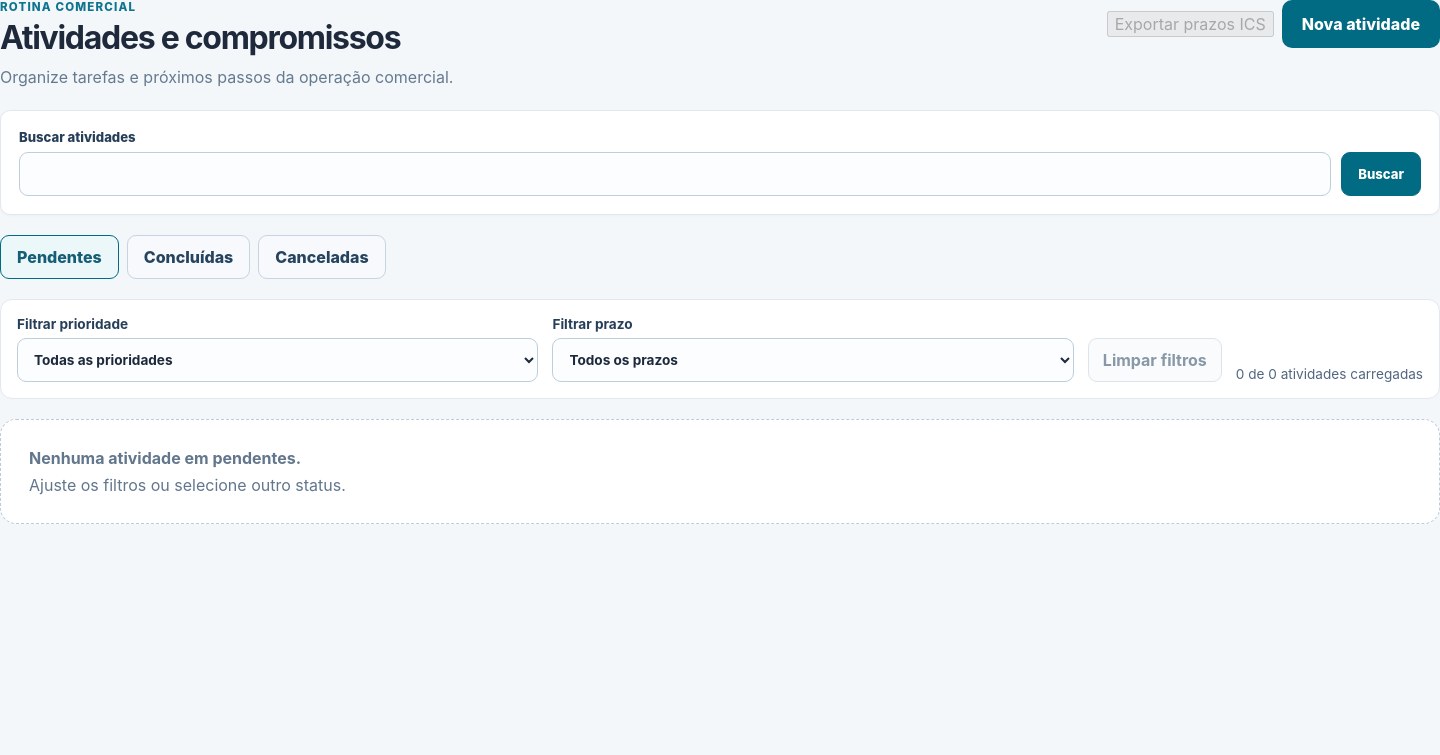
Scenario: C3.5.4 activities filters › creates a self-owned activity with optional commercial links
Expected: the text "Nenhuma atividade em pendentes." is shown, [29,448,301,468]
Click the button "Nova atividade" at (1361, 24), box [1282,0,1439,48]
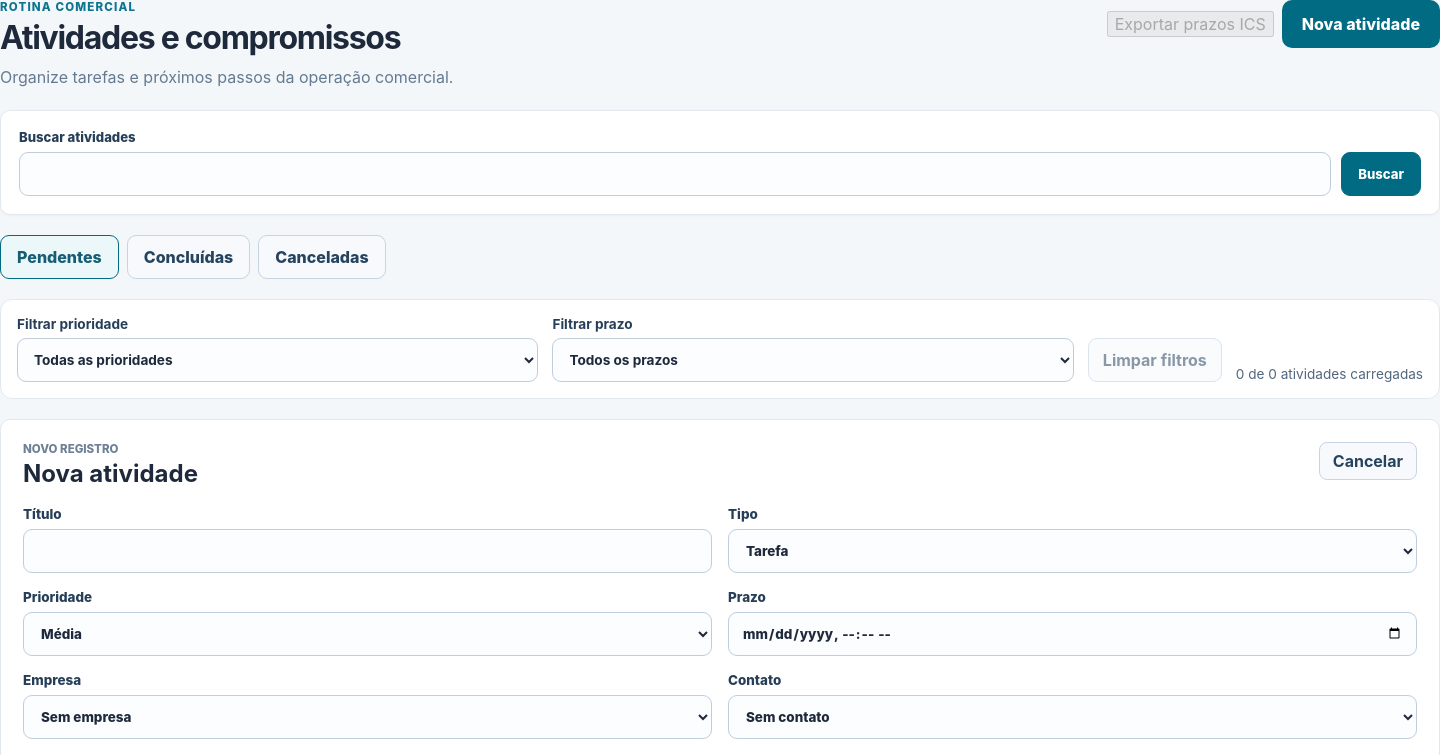
Type "Preparar proposta" into the field labelled "Título" at (368, 551), box [23,529,712,573]
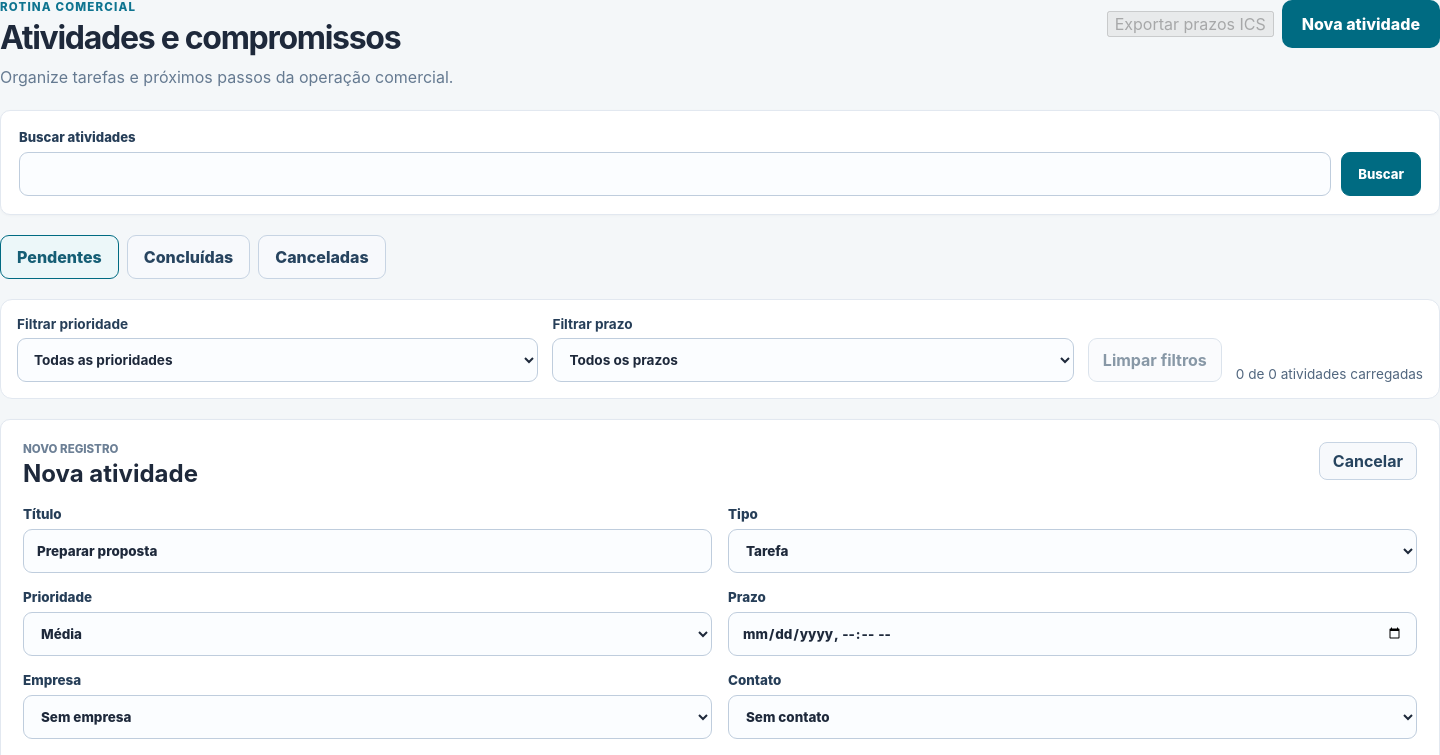
Select "Tarefa" in the dropdown labelled "Tipo" at (1072, 551), box [728,529,1417,573]
Select "Alta" in the dropdown labelled "Prioridade" at (368, 634), box [23,612,712,656]
Type "2026-09-15T14:30" into the field labelled "Prazo" at (1072, 634), box [728,612,1417,656]
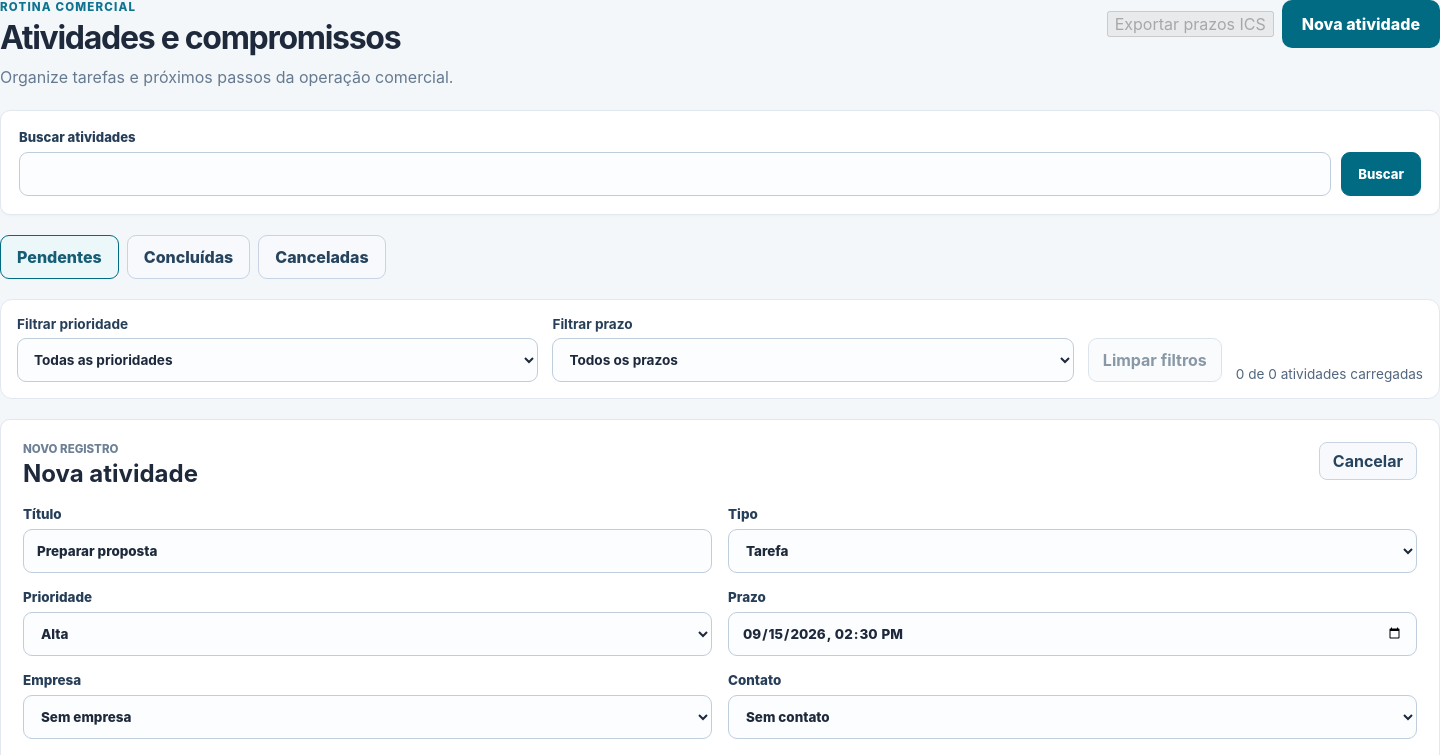
Select "Axes Cliente" in the dropdown labelled "Empresa" at (368, 717), box [23,695,712,739]
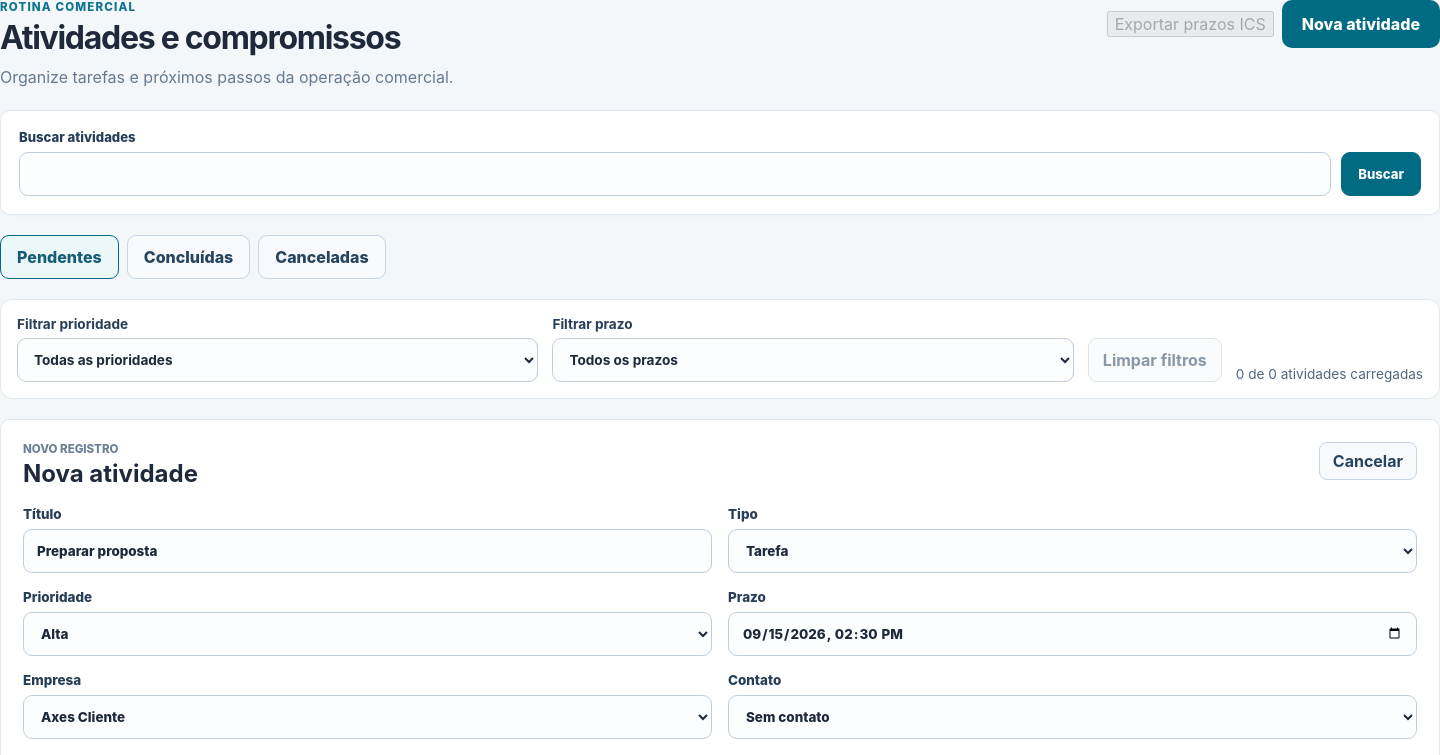
Select "Maria Cliente" in the dropdown labelled "Contato" at (1072, 717), box [728,695,1417,739]
(page scrolled)
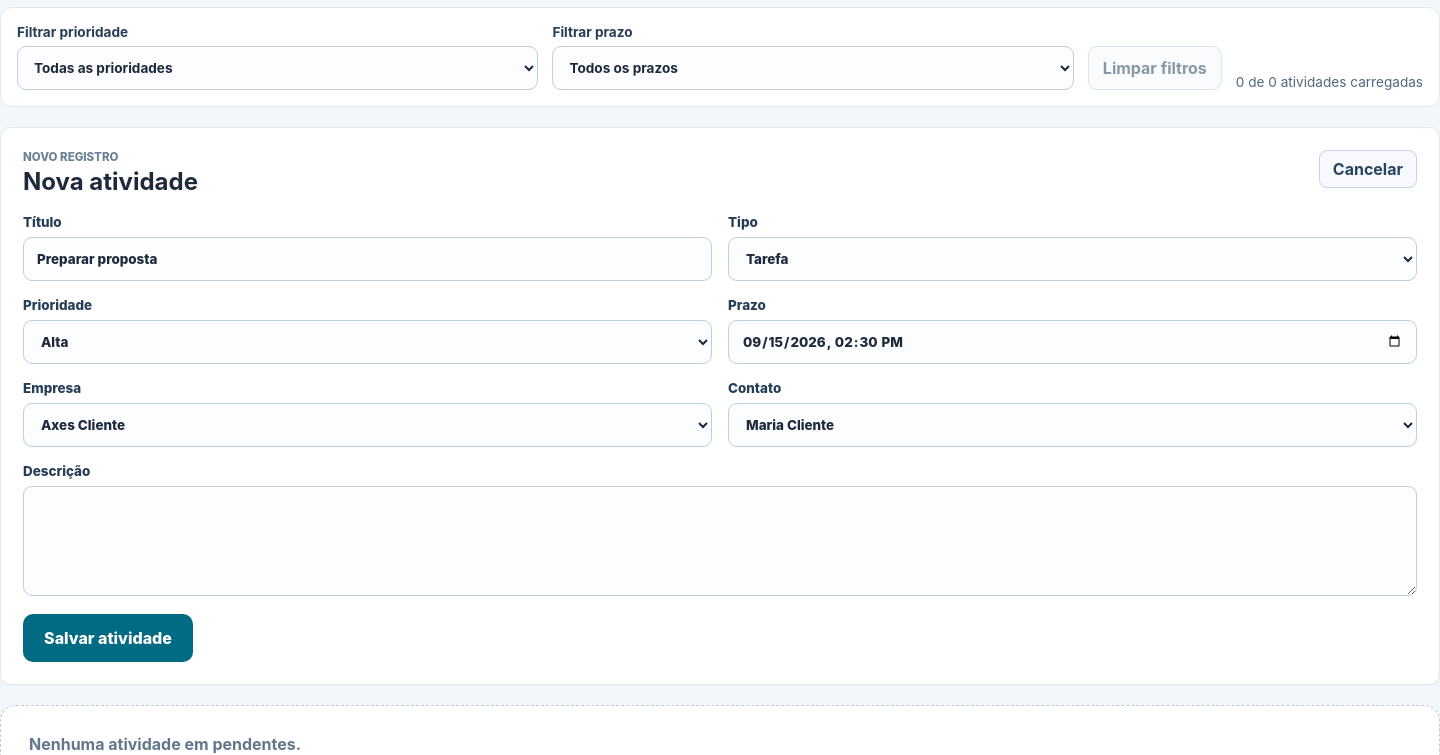
Click the button "Salvar atividade" at (108, 638), box [23,614,193,662]
(page scrolled)
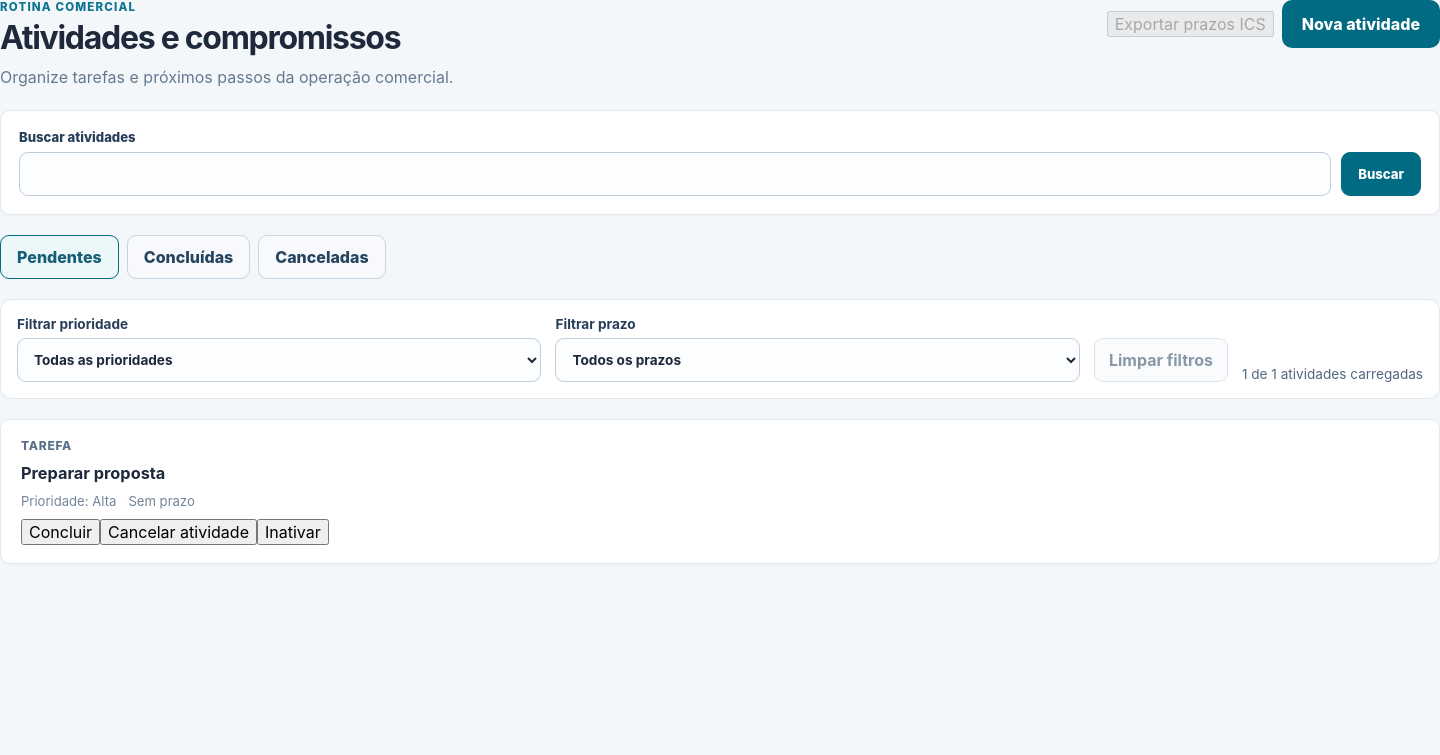
Expected: the text "Preparar proposta" is shown, [21,463,165,483]
